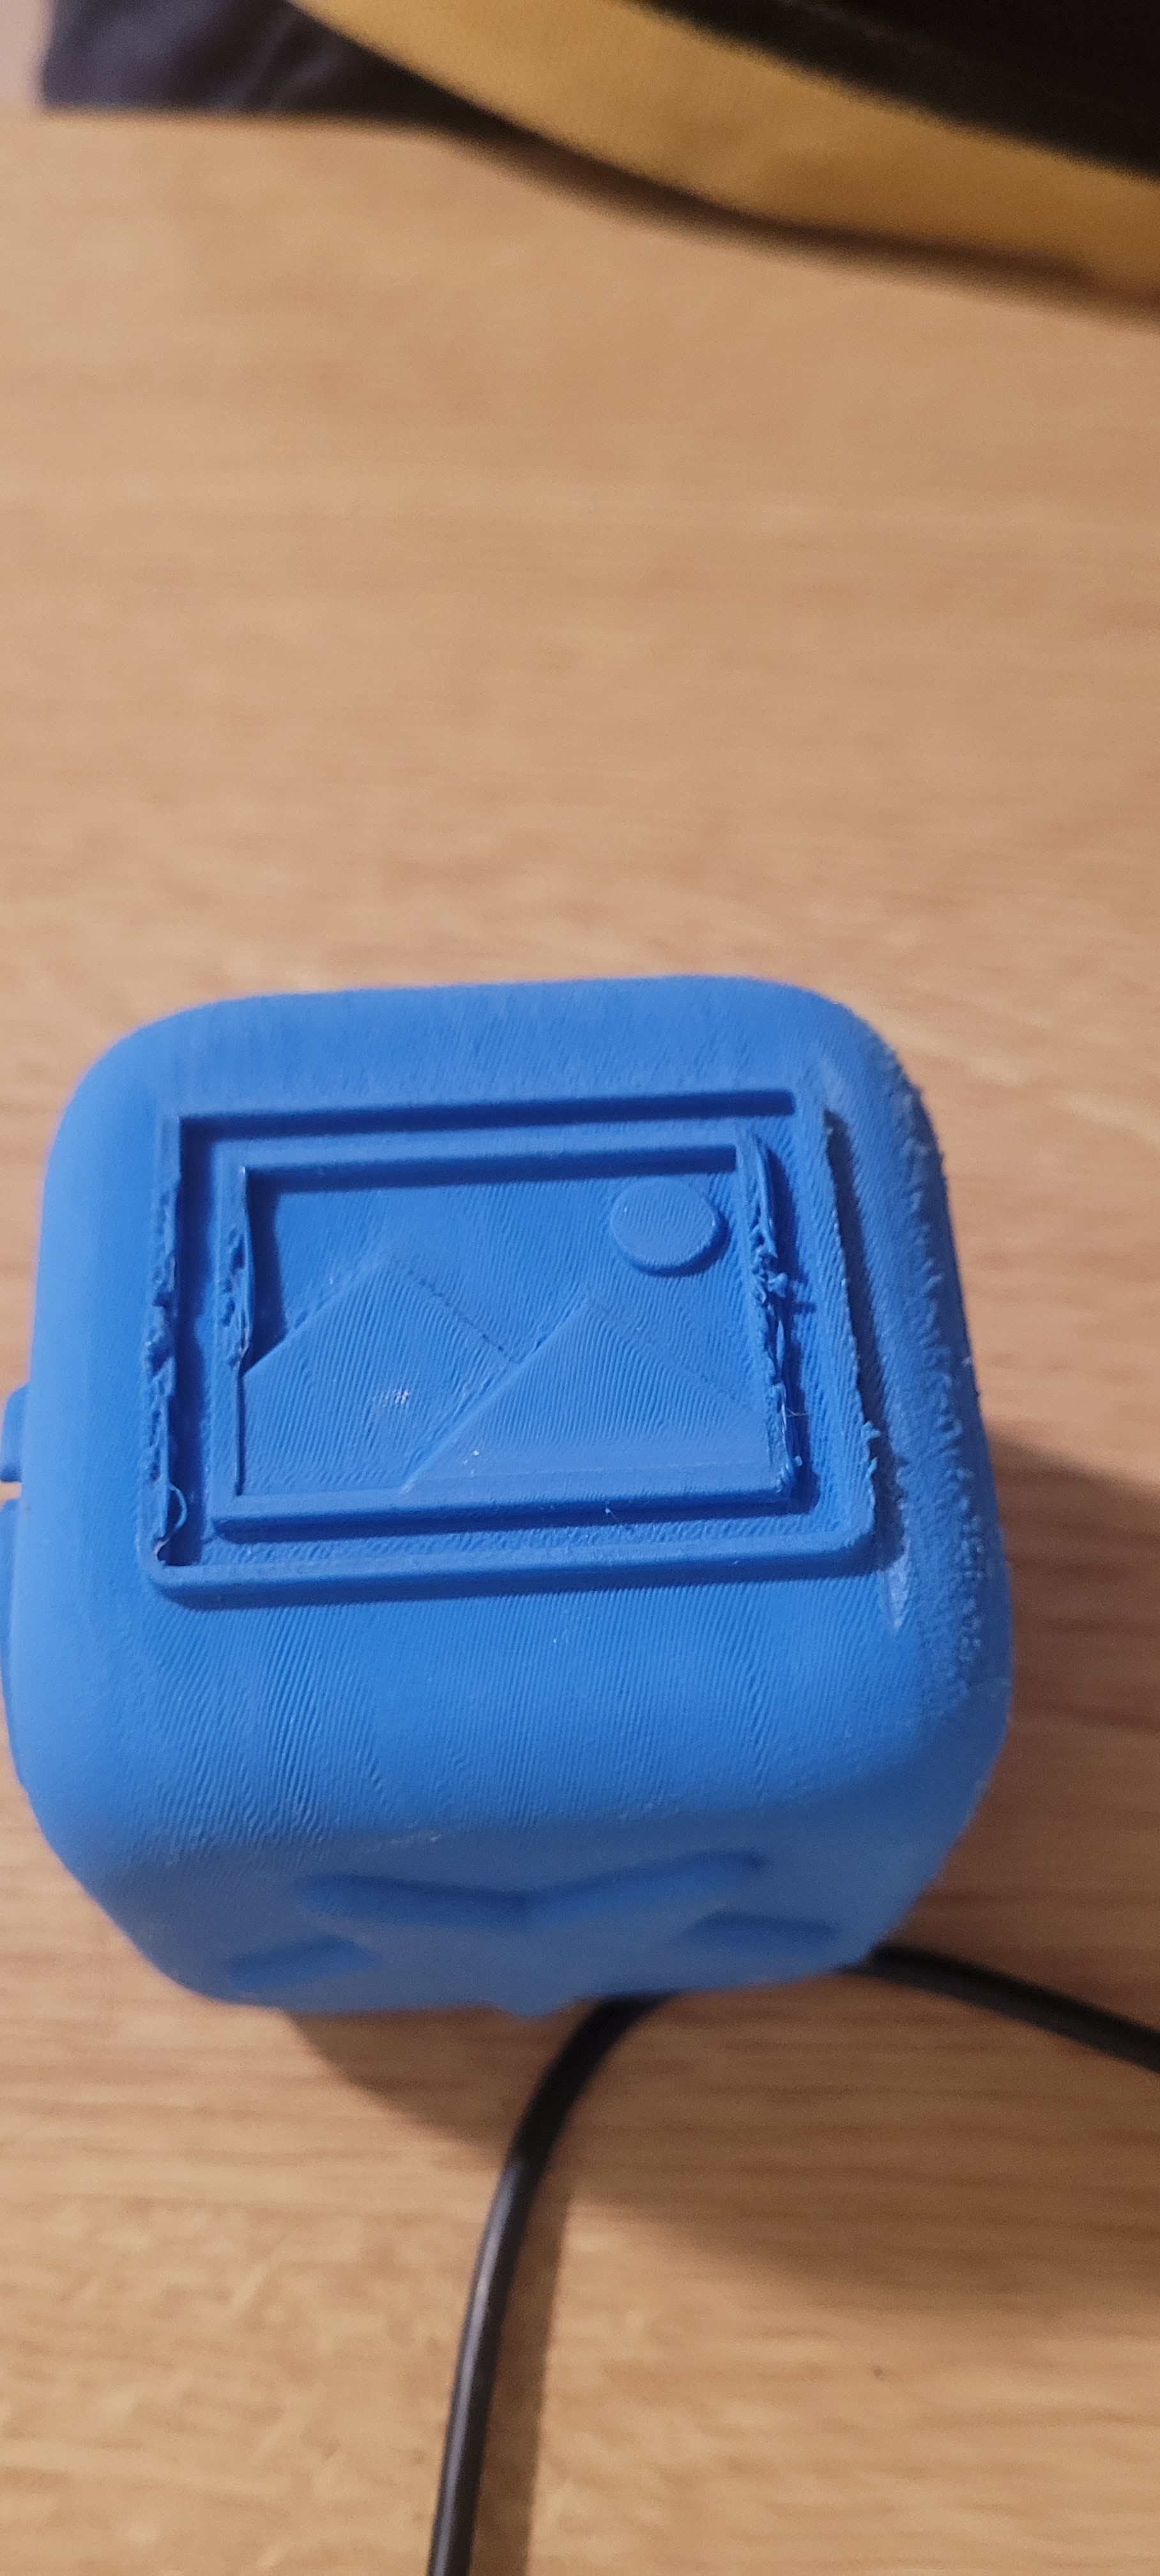Story: (138, 1112, 933, 1659)
